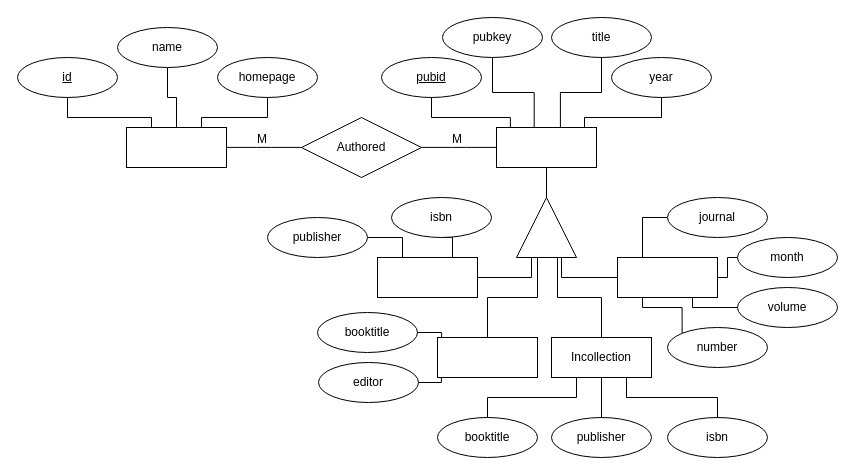
Some shapes in this 855 by 475 pixel diagram are drawn without their labels. The shapes that lost their labels are listed below. From the top down, each one's box as (x1, y1, x2, y2) in pixels, then its label:
(126, 126, 226, 168): Author
(496, 126, 596, 168): Publication
(516, 196, 576, 258): ISA
(376, 256, 478, 298): Book
(616, 256, 718, 298): Article
(436, 336, 538, 378): Inproceedings
